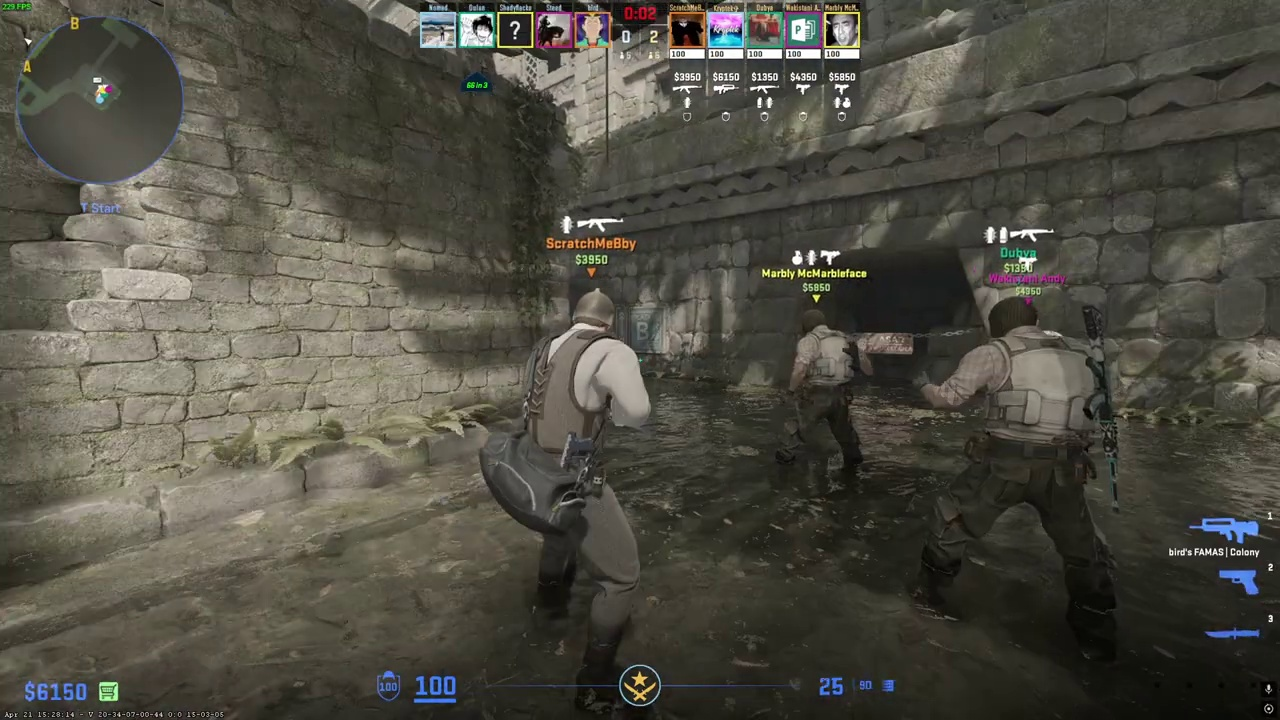Terrorist: (500, 288, 651, 718), (929, 296, 1120, 628), (778, 310, 867, 472)
